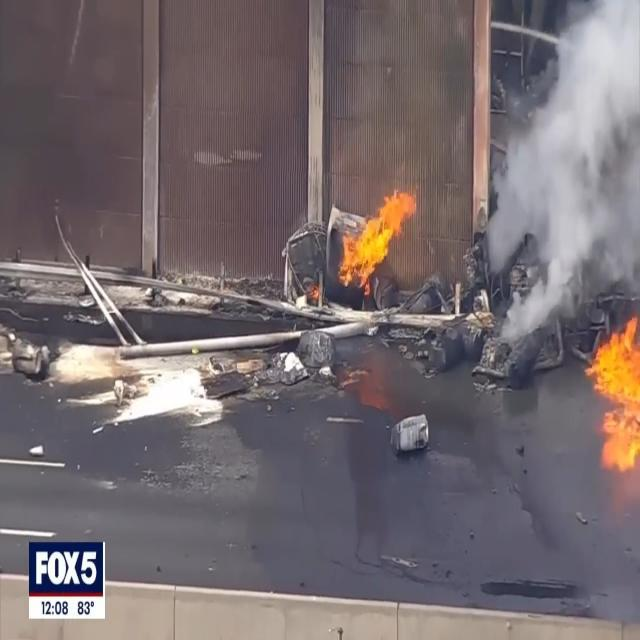fire: (586, 313, 640, 467), (340, 190, 414, 294)
